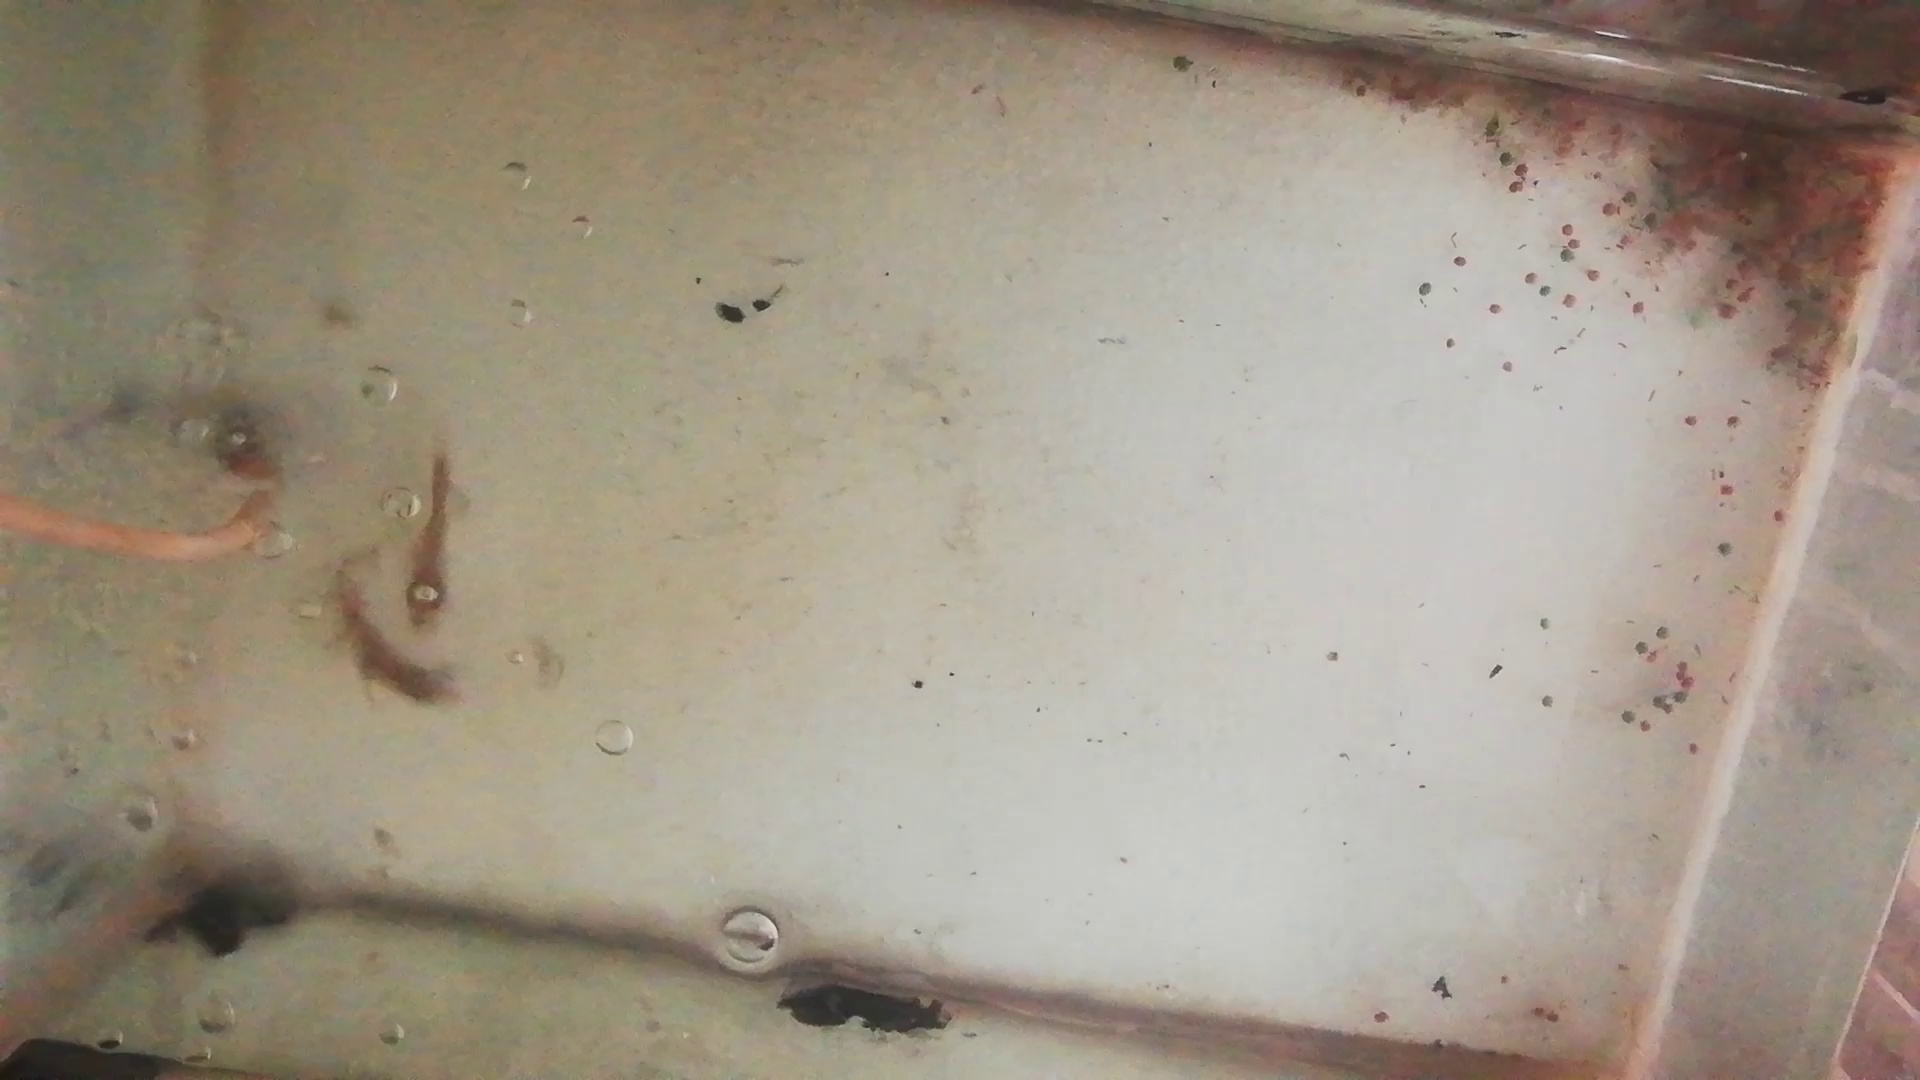fish: (326, 568, 458, 715), (405, 444, 458, 638)
